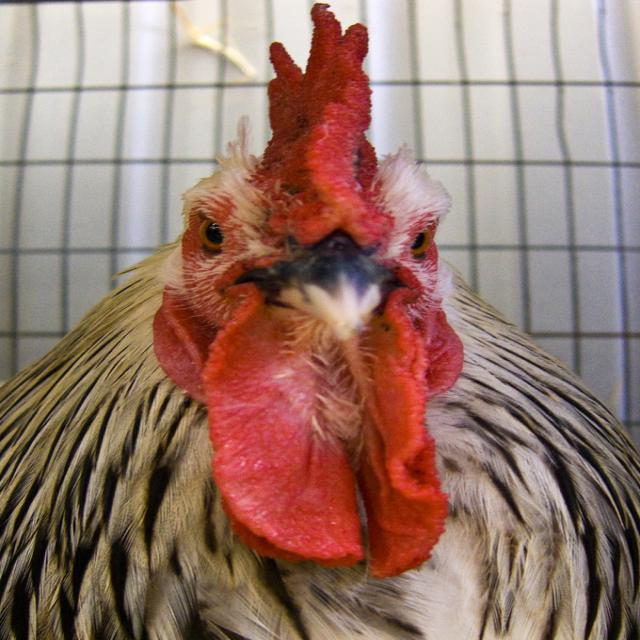Chicken: (0, 4, 639, 639)
